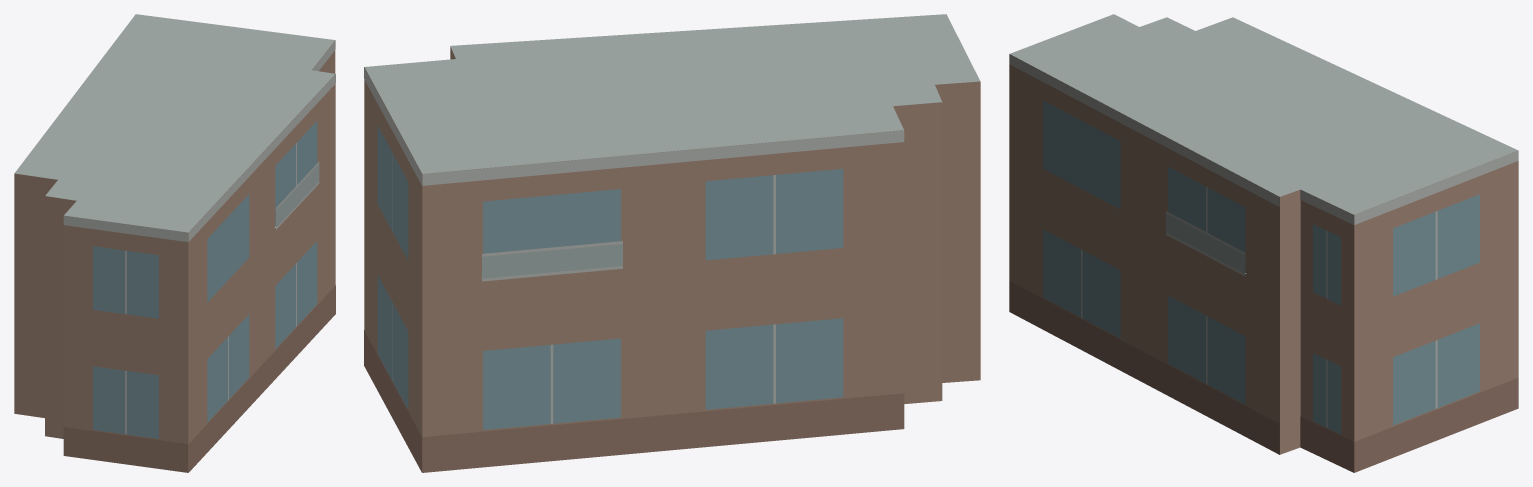
Rendered from survey-upis-32964742.glb.
The picture shows the model from 3 angles, left to right: view 1: azimuth 30°, elevation 25°; view 2: azimuth 150°, elevation 25°; view 3: azimuth 270°, elevation 25°; orthographic projection. The views are drawn at different scales.
Parts seen in each view (by area): view 1: survey-upis-32964742.tmp; view 2: survey-upis-32964742.tmp; view 3: survey-upis-32964742.tmp.
Part boxes in pixels (x1,y1,x2,y2): survey-upis-32964742.tmp: (14,14,335,472); survey-upis-32964742.tmp: (364,14,980,472); survey-upis-32964742.tmp: (1009,14,1518,472).
Size of the model in its own units: 10.2 by 6.1 by 10.92.
